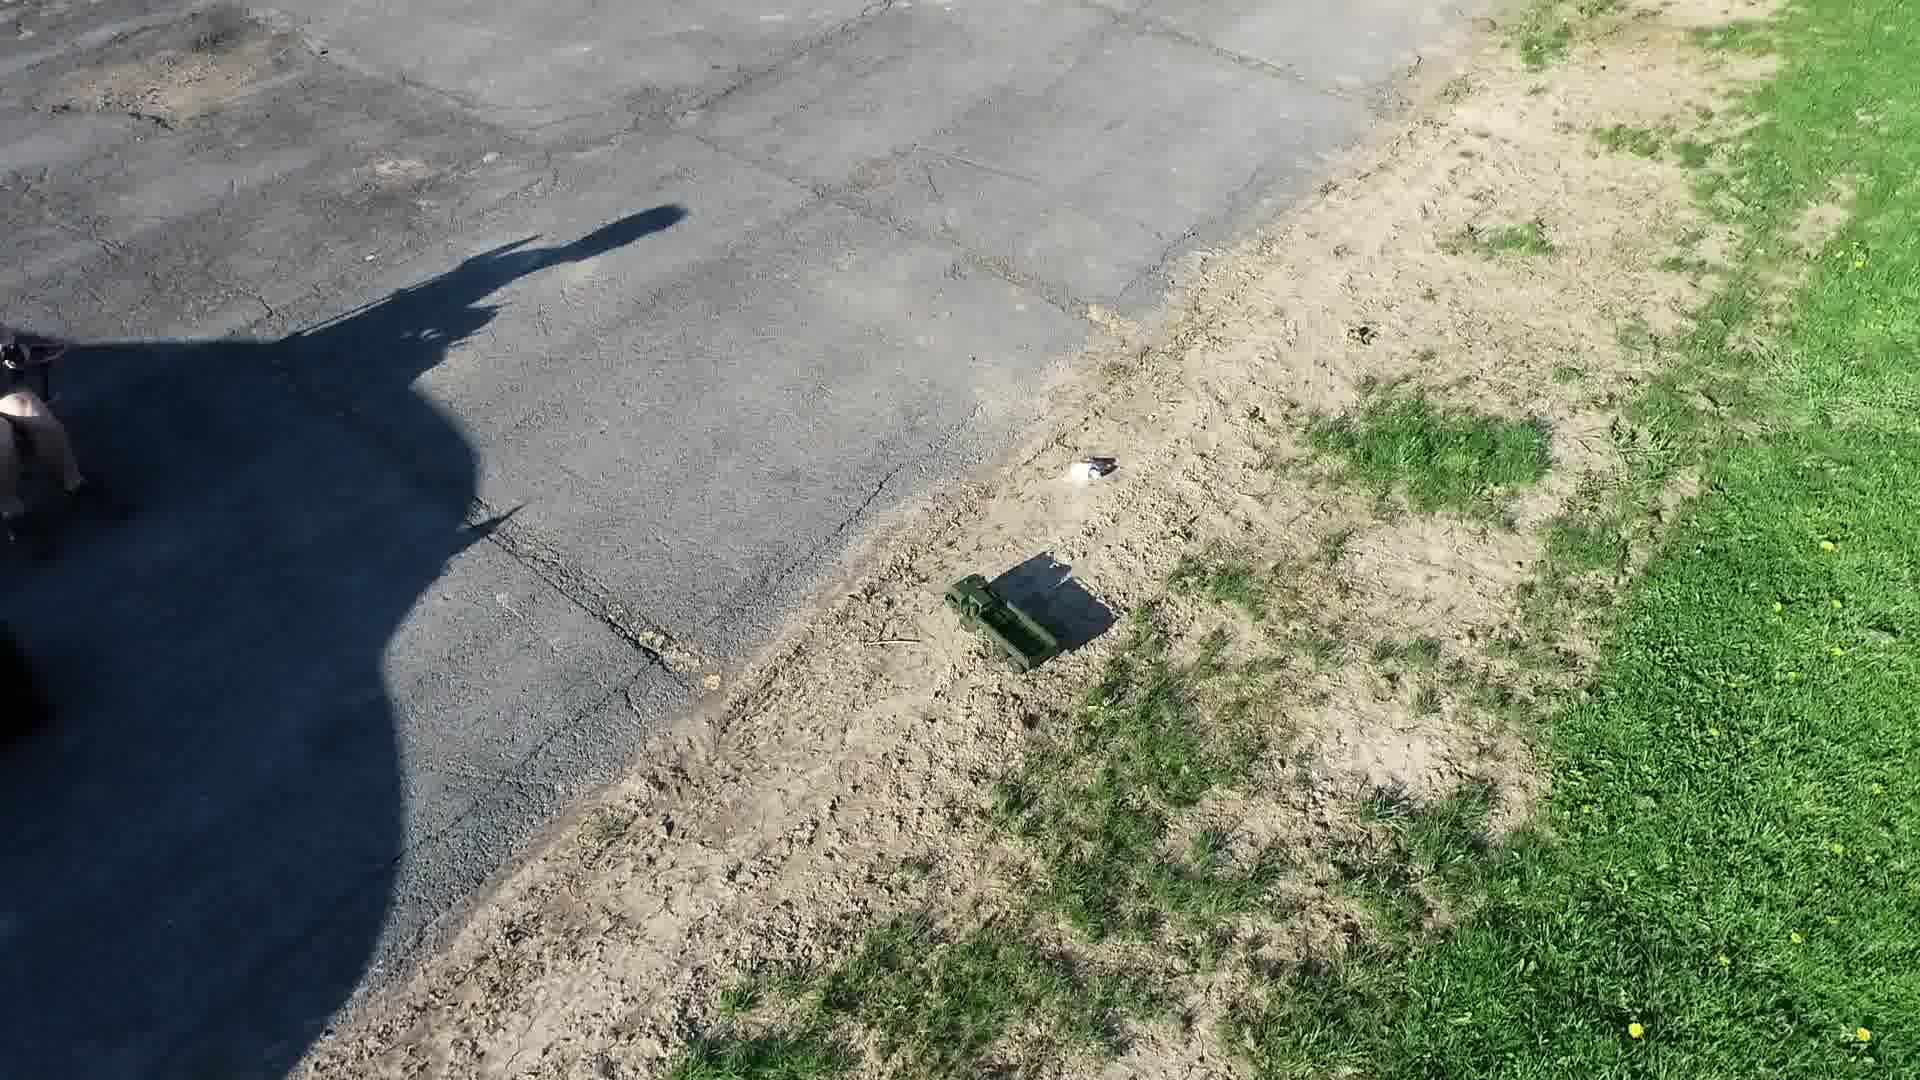transporter9: (938, 568, 1063, 678)
